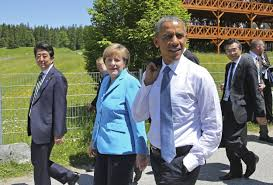F_M_suit jacket: (223, 57, 264, 124), (30, 69, 67, 139)
F_W_suit jacket: (91, 69, 149, 156)
F_shirt: (134, 54, 226, 166)
F_tie: (159, 58, 176, 165)
